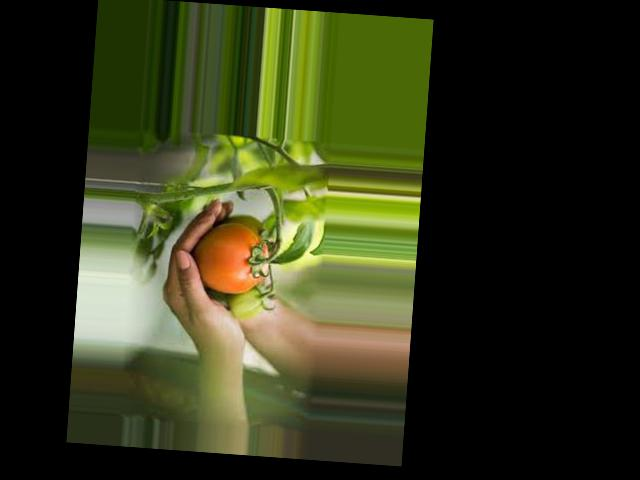tomato: (194, 222, 270, 296)
